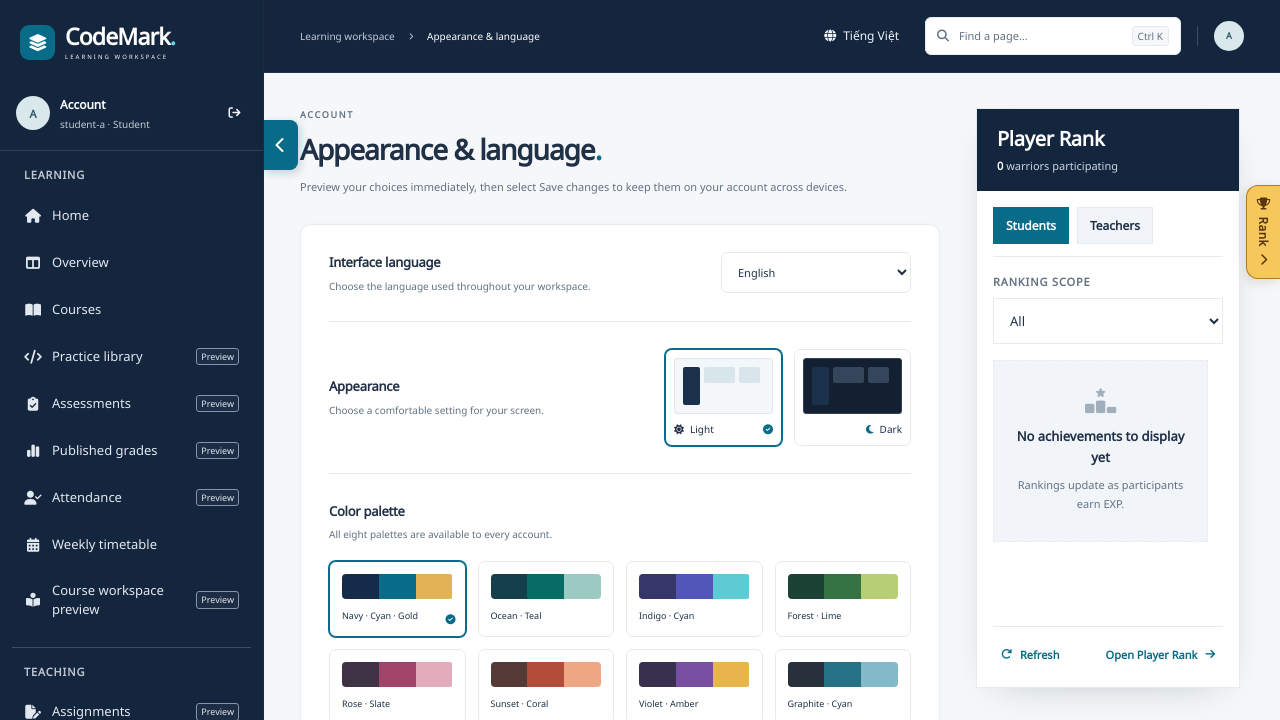
Test: Appearance, language and palette behavior › preserves unsaved appearance changes when the header saves a language change
Expected: the dropdown named "Interface language" is shown, [721,252,911,293]
What coordinates should you click on to do the following:
click the button "Dark"
I would click on:
 (852, 397)
Its box is [794,349,911,446].
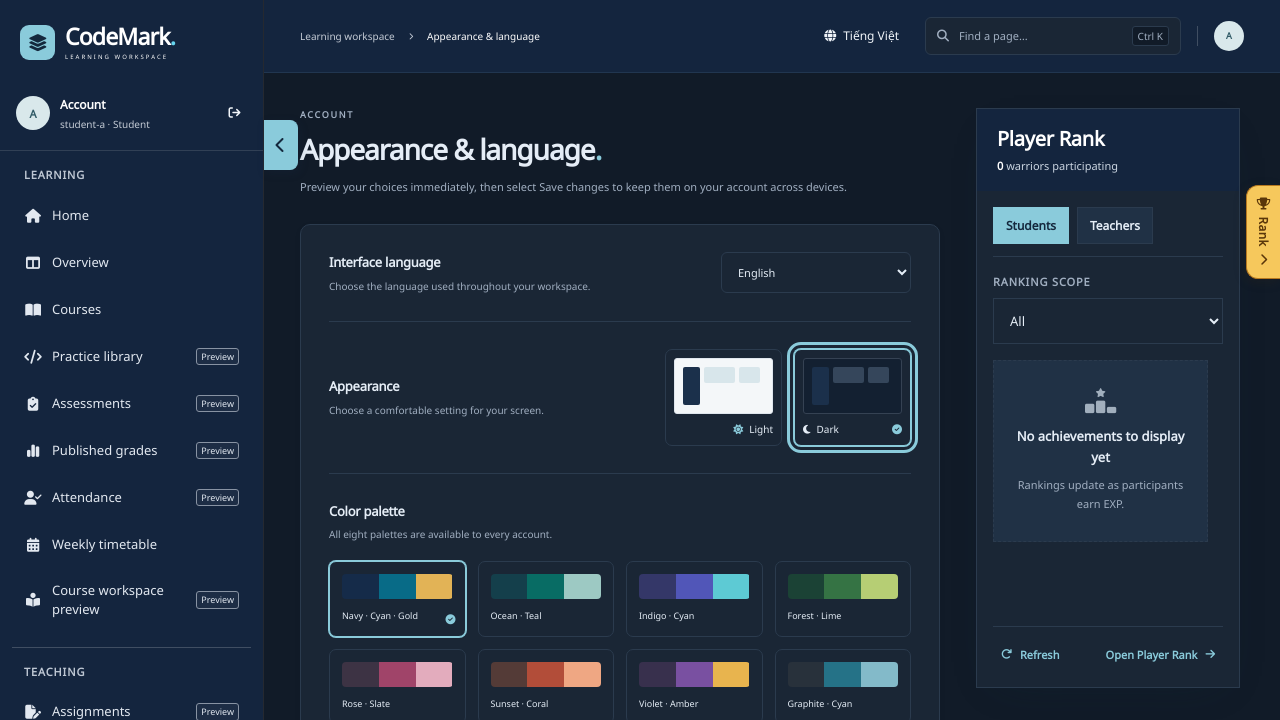
What coordinates should you click on to do the following:
click the button "Tiếng Việt"
I would click on:
 (862, 36)
Its box is [814,19,909,53].
(page scrolled)
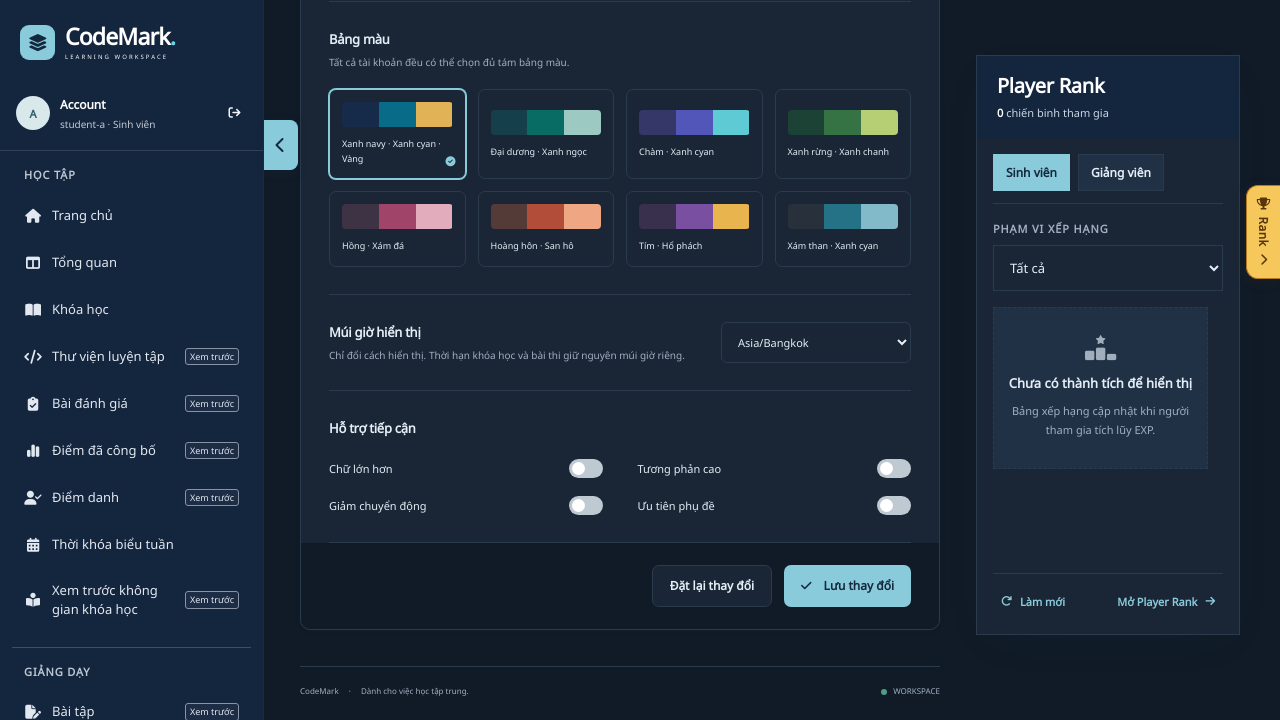
What coordinates should you click on to do the following:
click the button "Lưu thay đổi"
I would click on:
 (848, 586)
Its box is [784,565,911,607].
(page scrolled)
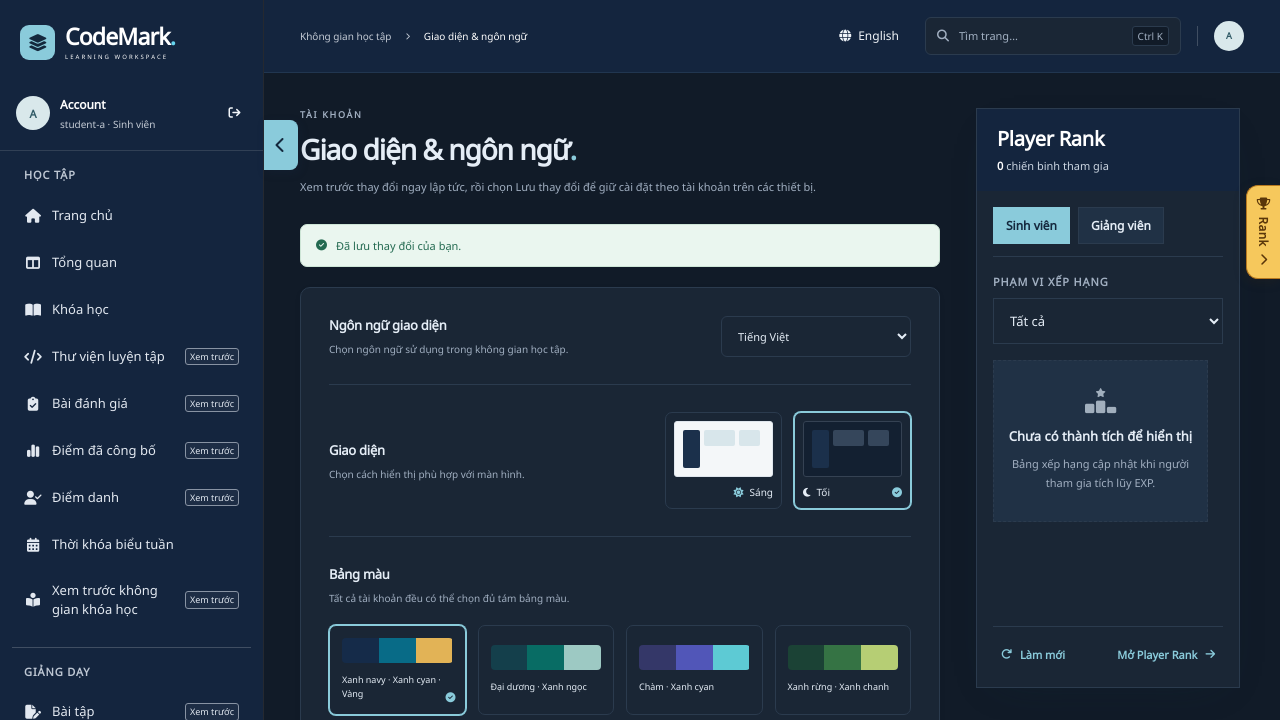
Expected: the text "Đã lưu thay đổi của bạn." is shown, [300,224,940,267]
